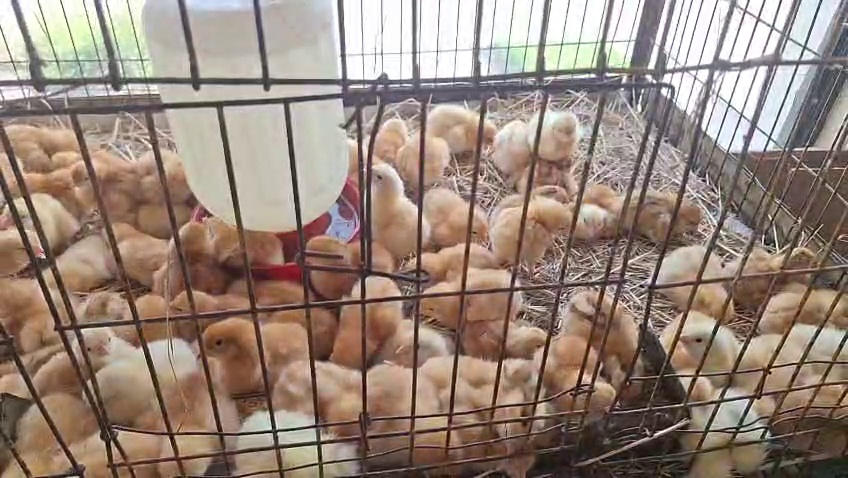Pollo: (359, 363, 469, 474), (558, 284, 651, 401), (341, 155, 435, 266), (189, 315, 315, 395), (83, 341, 195, 430), (262, 359, 368, 445), (527, 335, 633, 420), (220, 411, 354, 477), (151, 382, 238, 478), (697, 388, 789, 478), (489, 187, 576, 280), (283, 236, 398, 303), (726, 234, 831, 307), (739, 320, 804, 436), (34, 318, 132, 394), (330, 283, 418, 366), (104, 233, 182, 326), (657, 249, 751, 325), (657, 310, 747, 389), (7, 394, 89, 478), (63, 150, 157, 221), (0, 274, 84, 351), (410, 272, 534, 322), (752, 280, 847, 344), (624, 182, 713, 250), (46, 426, 161, 477), (3, 188, 82, 262), (776, 370, 845, 454), (125, 147, 198, 225), (497, 358, 551, 457), (772, 320, 848, 390), (326, 136, 407, 201), (414, 100, 506, 157), (426, 365, 505, 431), (410, 185, 488, 251), (462, 308, 555, 360), (161, 287, 269, 329), (216, 275, 315, 319), (368, 324, 455, 374), (17, 149, 86, 207), (570, 180, 623, 253), (508, 149, 585, 199), (404, 119, 461, 183), (53, 227, 117, 281), (502, 111, 555, 176), (202, 219, 284, 261), (541, 109, 600, 167), (170, 219, 228, 278), (414, 244, 492, 280), (0, 115, 89, 146), (685, 380, 738, 431), (500, 181, 579, 214), (368, 109, 407, 164), (497, 453, 551, 478), (0, 236, 32, 277)
